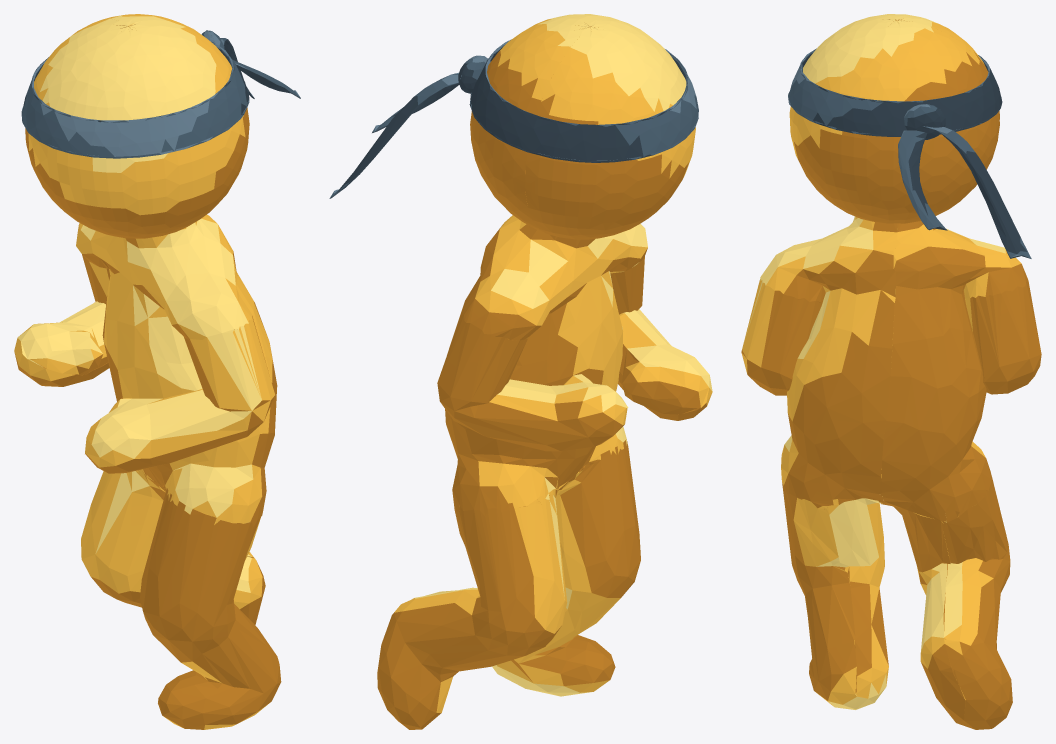
The model's file is Ninja_Jog3_L.gltf.
3 renders of one model, left to right at view 1: azimuth 30°, elevation 25°; view 2: azimuth 150°, elevation 25°; view 3: azimuth 270°, elevation 25°, orthographic. The views are drawn at different scales.
Parts seen in each view (by area): view 1: Ninja_Jog3_L_baked; view 2: Ninja_Jog3_L_baked; view 3: Ninja_Jog3_L_baked.
Boxes of the visible parts, bbox=[...] form: Ninja_Jog3_L_baked: bbox=[14, 14, 300, 729]; Ninja_Jog3_L_baked: bbox=[329, 14, 712, 729]; Ninja_Jog3_L_baked: bbox=[741, 14, 1041, 729].
Bounding box in the file's own units: 0.4256 × 1 × 0.4183.
